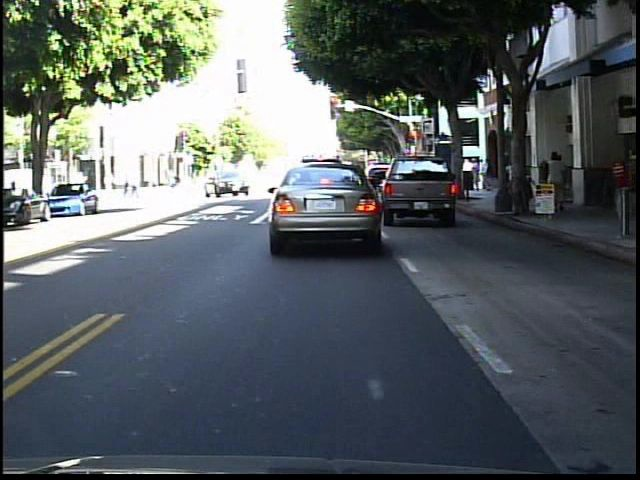person: (544, 151, 569, 209), (558, 152, 572, 206)
